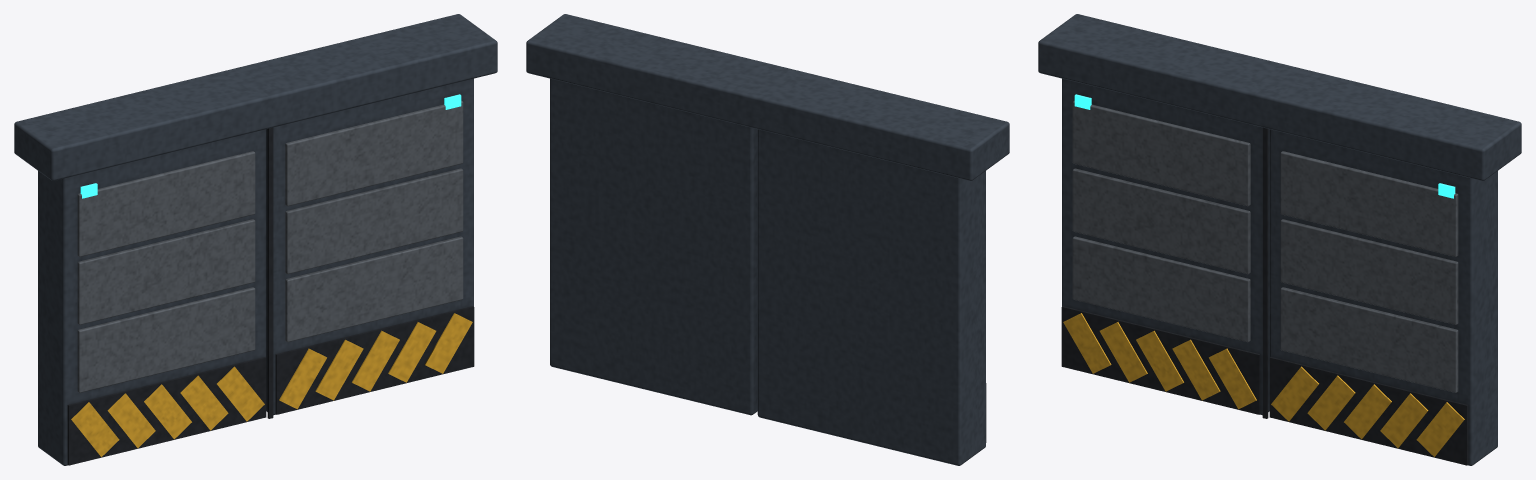
Rendered from gate_doors.glb.
3 views of the same model, side by side, from view 1: azimuth 30°, elevation 25°; view 2: azimuth 150°, elevation 25°; view 3: azimuth 330°, elevation 25° (orthographic).
Parts seen in each view (by area): view 1: Prop_gate_doors; view 2: Prop_gate_doors; view 3: Prop_gate_doors.
Boxes of the visible parts, bbox=[...] form: Prop_gate_doors: bbox=[14, 14, 497, 465]; Prop_gate_doors: bbox=[526, 14, 1009, 465]; Prop_gate_doors: bbox=[1038, 14, 1521, 465].
Bounding box in the file's own units: 8.6 × 6 × 1.3.
5 materials, 4 textured.
